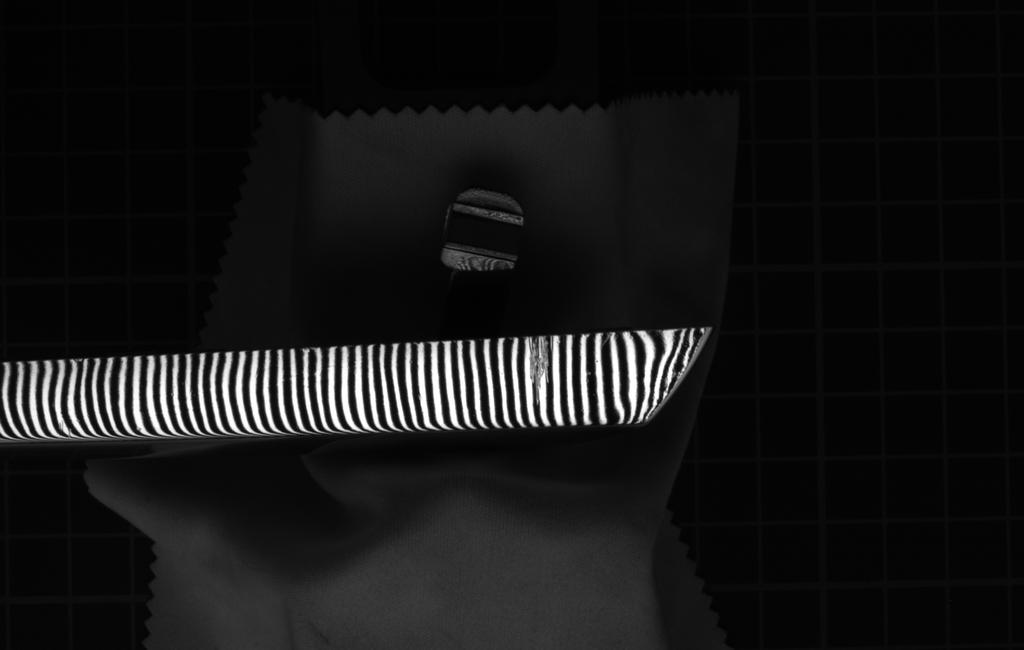Pitting: (526, 334, 562, 407)
